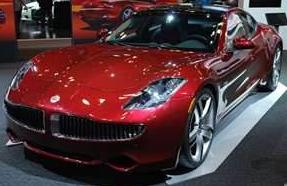front_view: (24, 57, 197, 170)
headlight: (129, 77, 191, 117)
side_glass: (226, 13, 267, 53)
